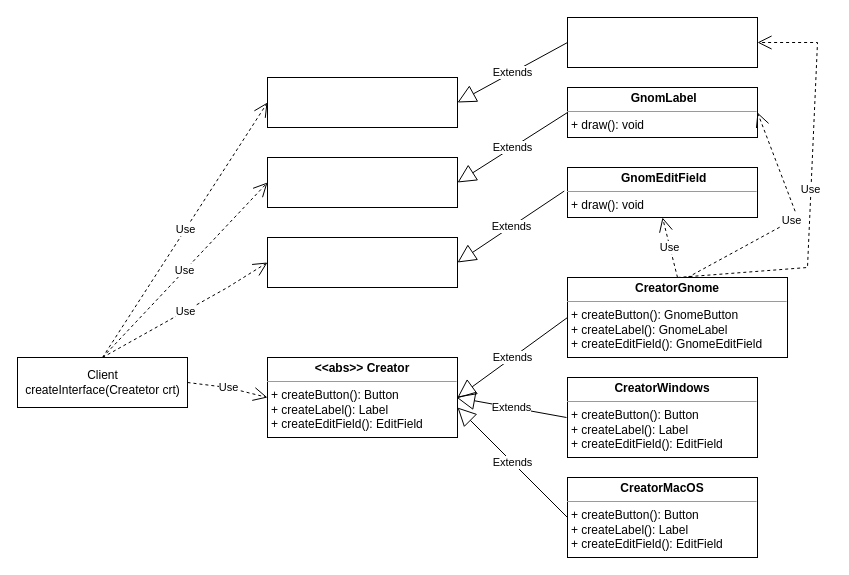
The diagram is 849 pixels wide and 575 high, and some of its shapes have lost their labels. The shapes that lost their labels are listed below. From the top down, each one's centre as x and y in pixels, then its label:
[662,42]: GnomButton + draw(): void
[362,102]: <<abs>> Button + draw(): void
[362,182]: <<abs>> Label + draw(): void
[362,262]: <<abs>> EditField + draw(): void
